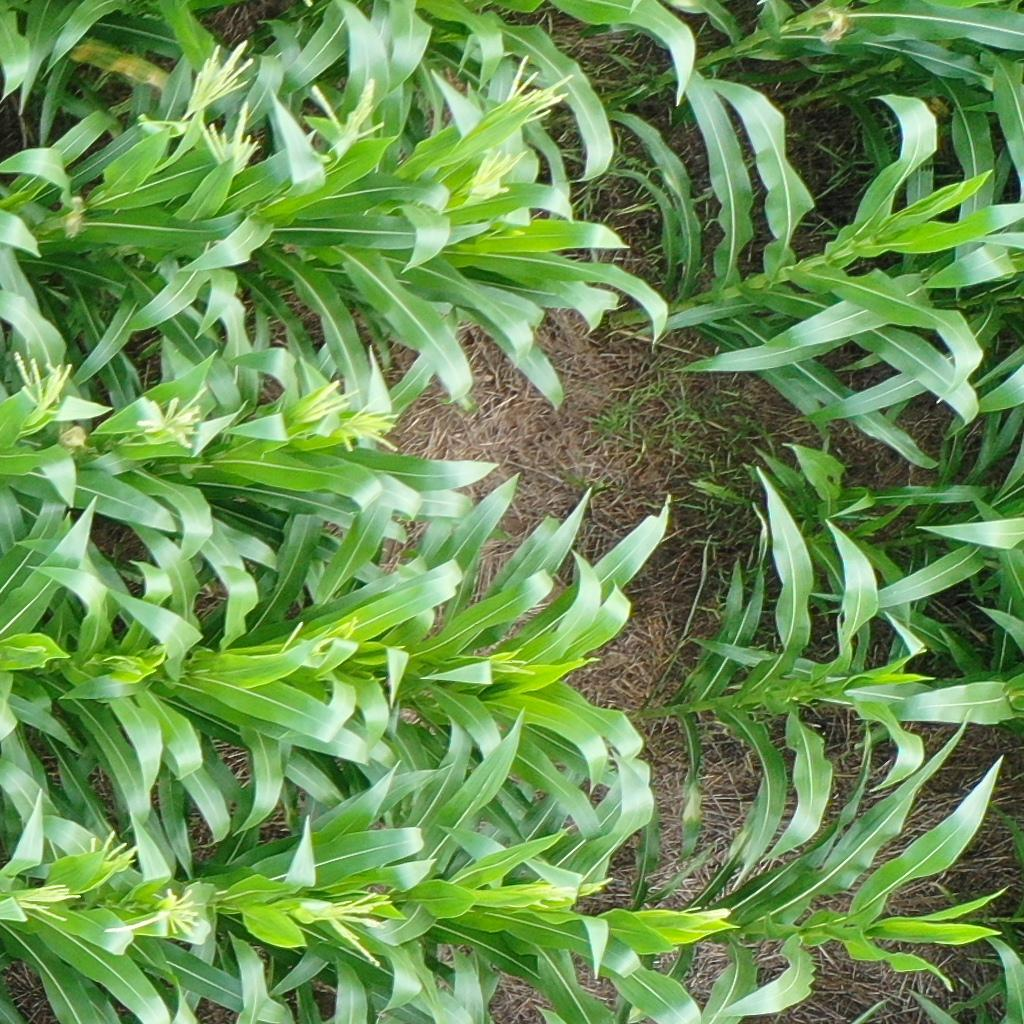Tassel: (177, 37, 262, 177), (292, 888, 397, 968), (295, 380, 401, 456), (309, 72, 390, 161), (107, 888, 210, 943), (133, 385, 210, 451), (14, 353, 73, 430), (510, 51, 565, 120), (465, 147, 528, 206), (280, 617, 360, 661), (9, 878, 79, 924), (529, 872, 614, 909), (78, 830, 139, 876)
